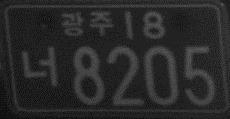0: (145, 45, 179, 106)
1: (122, 9, 135, 41)
2: (105, 45, 144, 107)
5: (181, 46, 216, 106)
8: (70, 45, 104, 105), (141, 10, 165, 40)
광주_O: (59, 9, 114, 37)
너: (20, 45, 59, 89)
